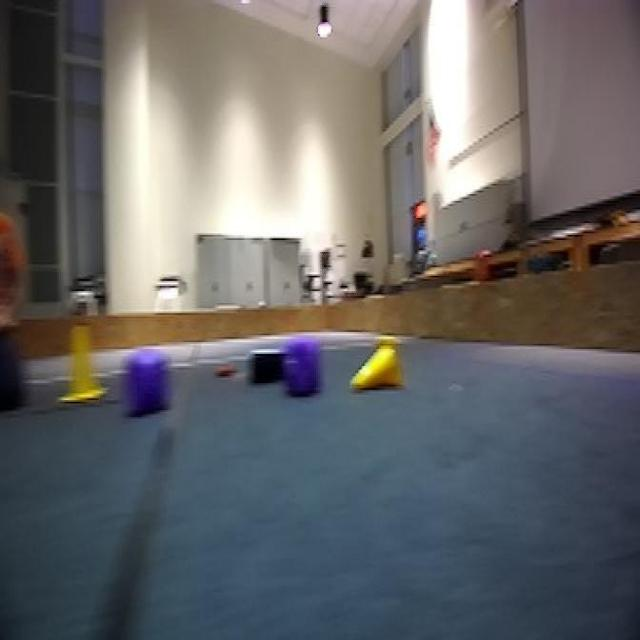frc_cone: (57, 316, 105, 408), (352, 330, 408, 400)
frc_cube: (282, 335, 322, 400), (126, 356, 166, 414)
